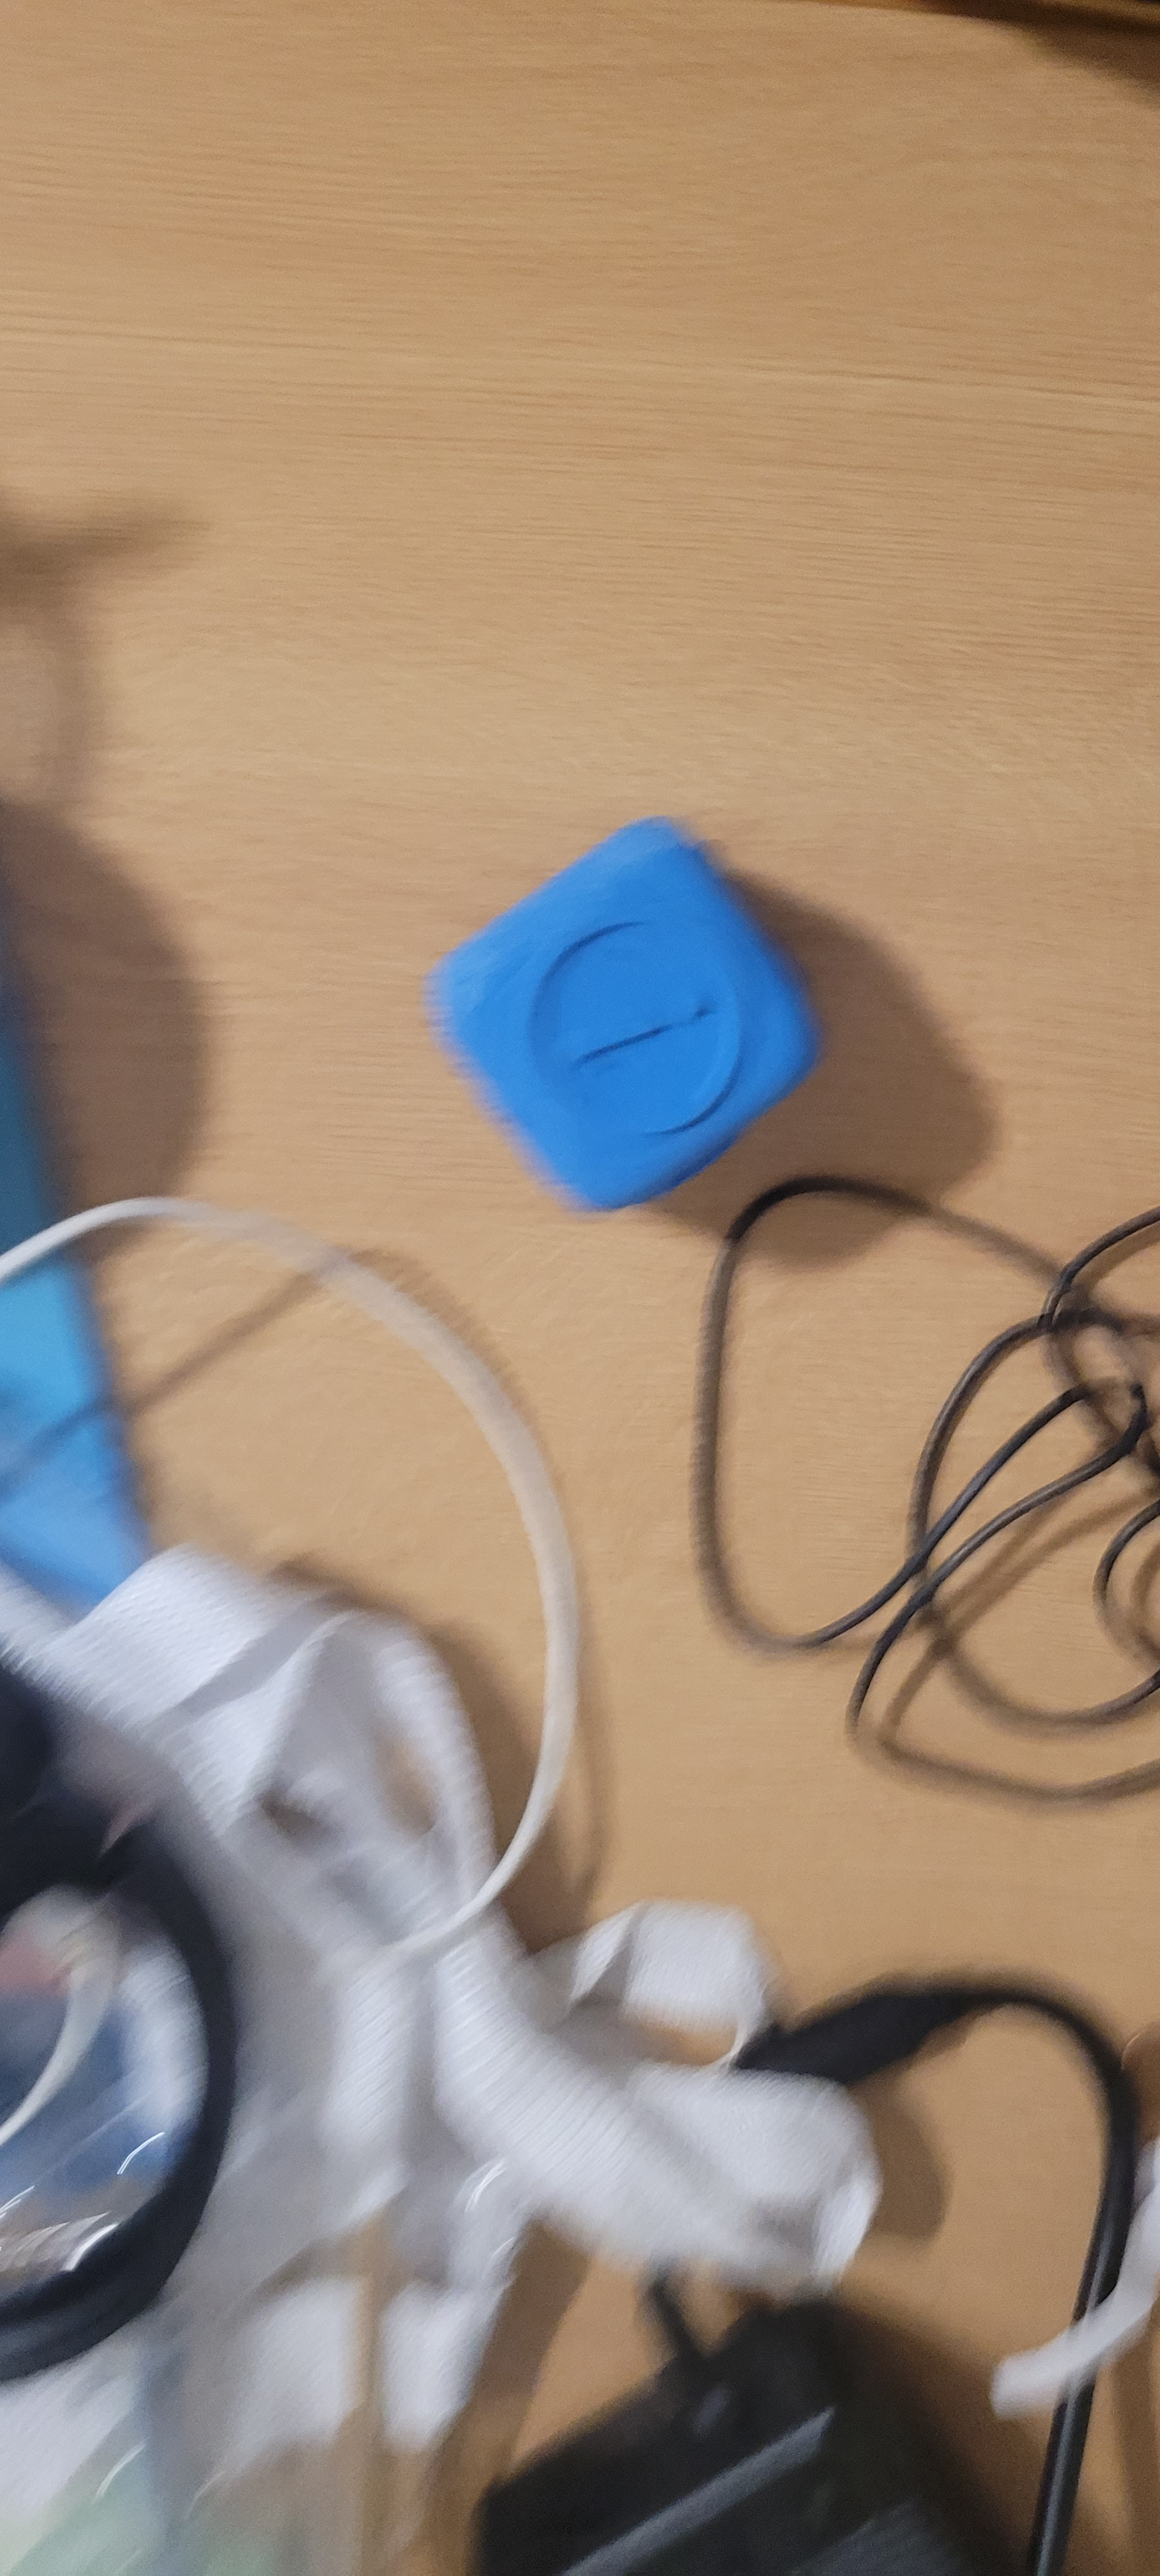Info: (450, 913, 797, 1165)
